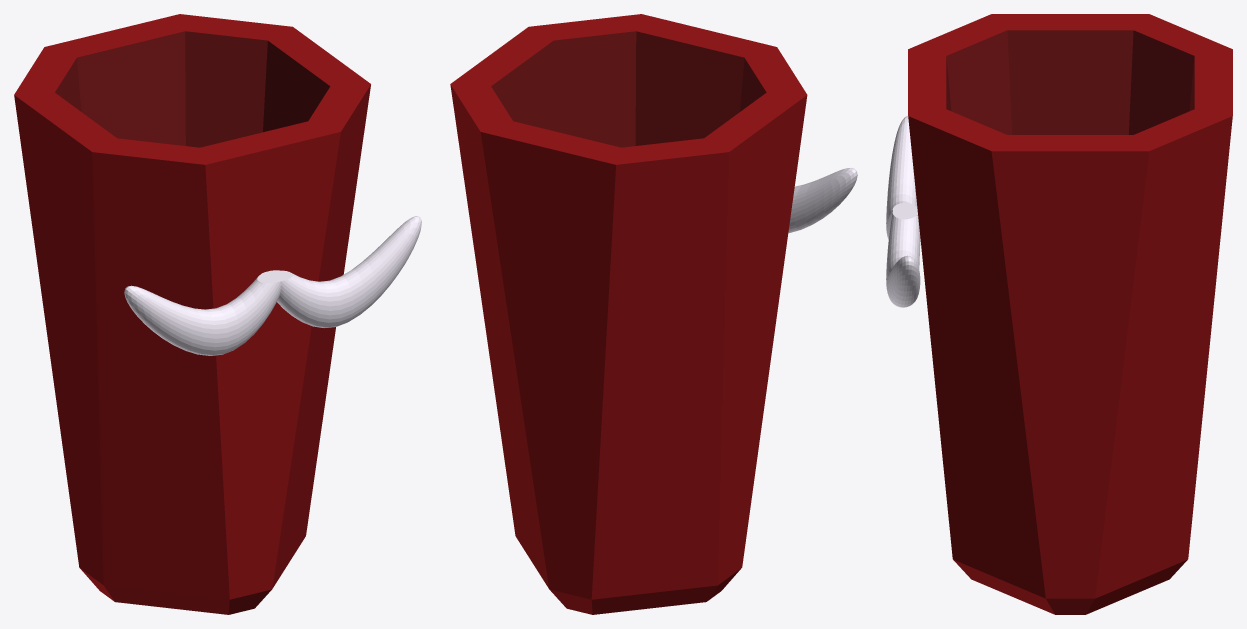
File: CubileteAzar.fbx
3 views of the same model, side by side, from view 1: azimuth 30°, elevation 25°; view 2: azimuth 150°, elevation 25°; view 3: azimuth 270°, elevation 25° (orthographic).
Visible parts, largest first — view 1: cubileteAzar; view 2: cubileteAzar; view 3: cubileteAzar.
Boxes of the visible parts, left/top/right/bottom form: cubileteAzar: left=14, top=14, right=421, bottom=614; cubileteAzar: left=450, top=14, right=857, bottom=614; cubileteAzar: left=886, top=14, right=1232, bottom=614.
Bounding box in the file's own units: 44.59 × 70 × 44.85.
